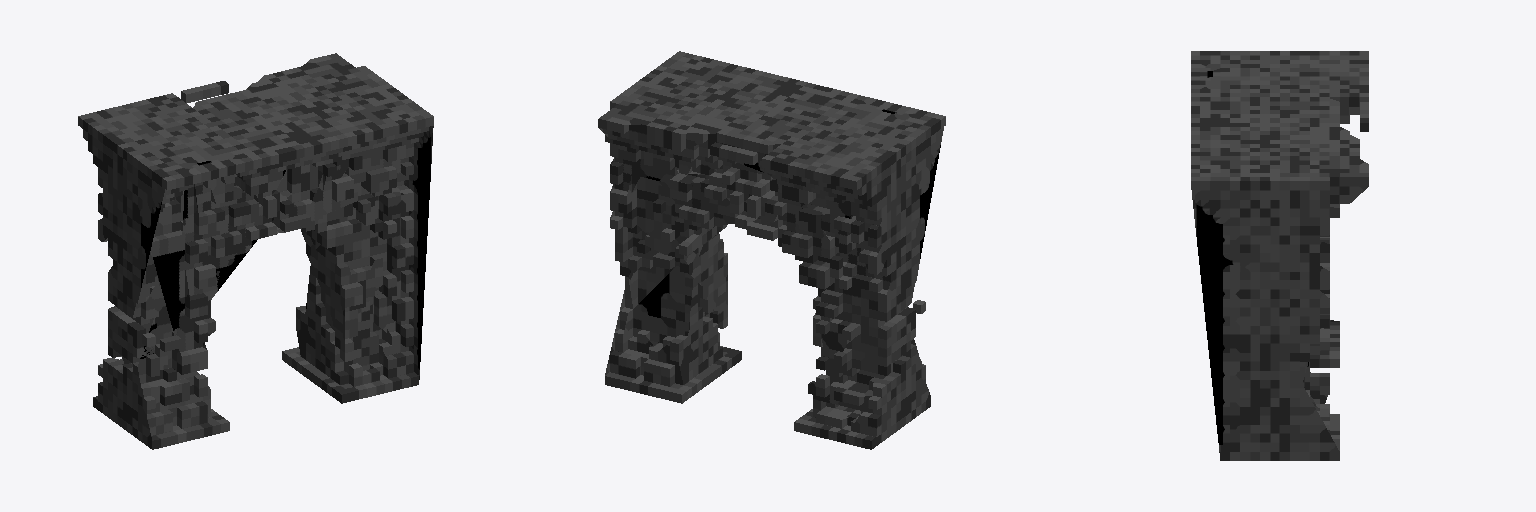
The picture shows the model from 3 angles: view 1: azimuth 30°, elevation 25°; view 2: azimuth 150°, elevation 25°; view 3: azimuth 270°, elevation 25°; orthographic projection.
Visible parts, largest first — view 1: Wall_WDoor_Int_Brick_Broken_Wall_WDoor_Int_Brick_Broken.001; view 2: Wall_WDoor_Int_Brick_Broken_Wall_WDoor_Int_Brick_Broken.001; view 3: Wall_WDoor_Int_Brick_Broken_Wall_WDoor_Int_Brick_Broken.001.
Boxes of the visible parts, <box> form: Wall_WDoor_Int_Brick_Broken_Wall_WDoor_Int_Brick_Broken.001: <box>78,53,433,449</box>; Wall_WDoor_Int_Brick_Broken_Wall_WDoor_Int_Brick_Broken.001: <box>598,51,945,449</box>; Wall_WDoor_Int_Brick_Broken_Wall_WDoor_Int_Brick_Broken.001: <box>1191,51,1368,460</box>.
Size of the model in its own units: 3.1 by 3.1 by 1.8.
1 materials, 1 textured.